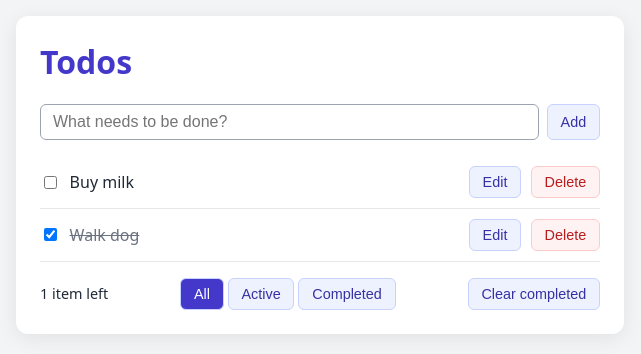
Scenario: TodoApp › toggles completed
What coordinates should you click on to do the following:
click the checkbox named "Mark \"Buy milk\" as completed"
I would click on:
 (50, 182)
Its box is [44,176,57,189].
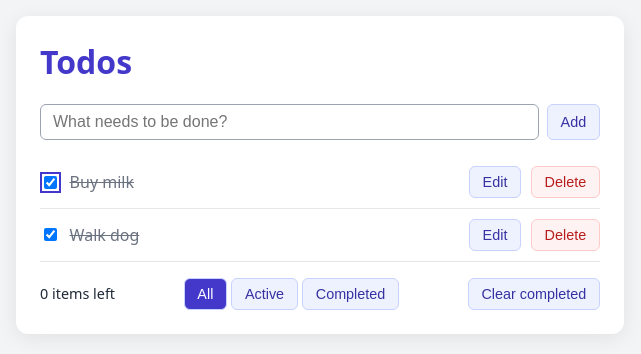
Expected: the text "0 items left" is shown, [40,284,115,303]
